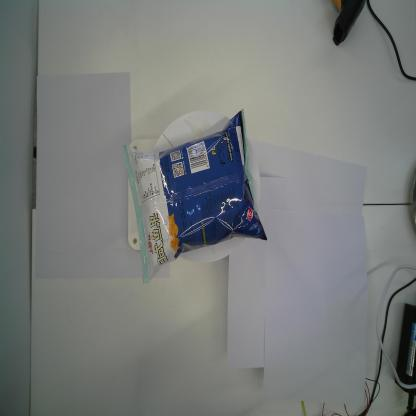Puffed Food: (122, 108, 268, 284)
